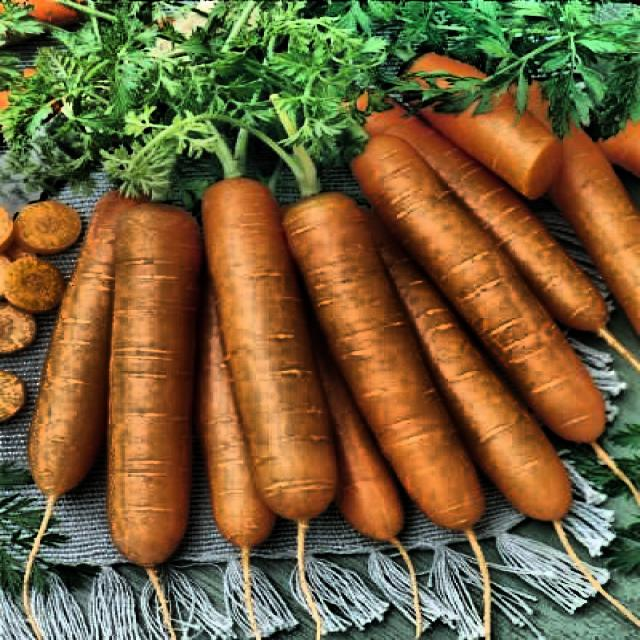carrot: (23, 21, 632, 632)
